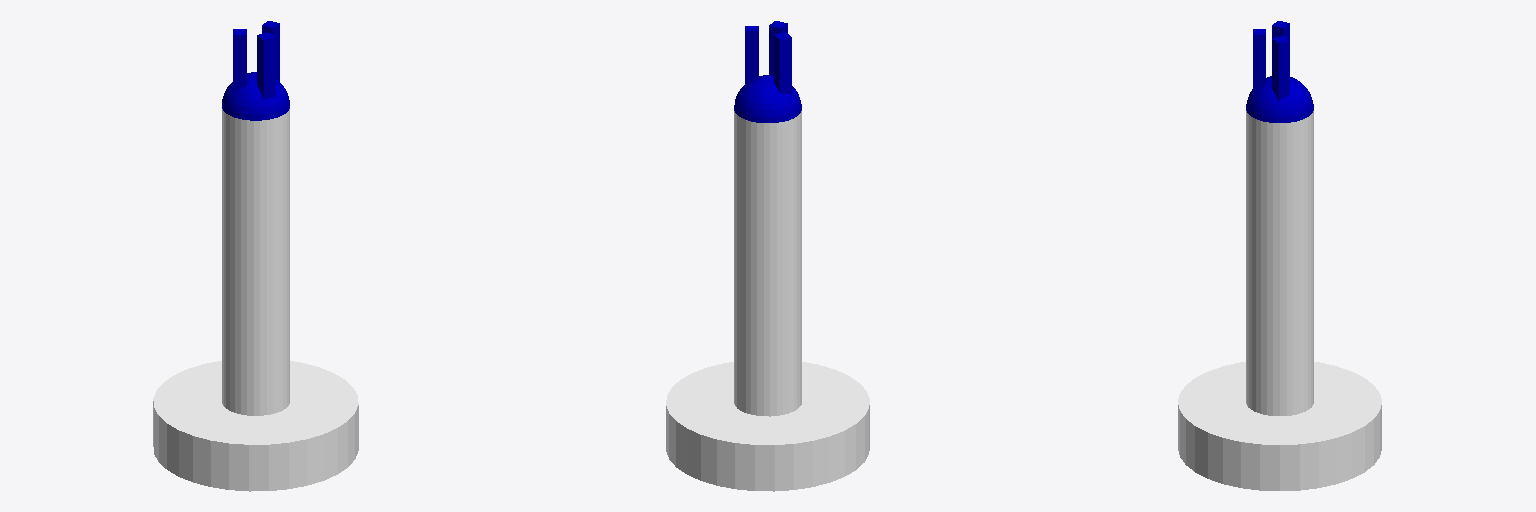
The robot description file, URDF, robot "goofybot":
<?xml version="1.0" ?>
<robot name="goofybot">

  <material name="blue">
    <color rgba="0 0 0.8 1"/>
  </material>
  
  <material name="black">
    <color rgba="0 0 0 1"/>
  </material>
  
  <material name="white">
    <color rgba="1 1 1 1"/>
  </material>

  <!-- ARM -->  

  <!--BASE FOOTPRINT -->
  <link name="base_footprint">

    <inertial>
      <mass value="5" />
        <inertia ixx="0.03047" ixy="0.0" ixz="0.0" iyy="0.03047" iyz="0.0" izz="0.05625" />
    </inertial>

    <visual>
      <origin rpy="0 0 0" xyz="0 0 0.0375"/>    
      <geometry>
        <cylinder radius="0.15" length="0.075"/>
      </geometry>
      <material name="white"/>
    </visual>

    <collision>
      <origin rpy="0 0 0" xyz="0 0 0.0375"/>
      <geometry>
        <cylinder radius="0.15" length="0.075"/>
      </geometry>
    </collision>

  </link>

  <link name="base_link">
    <inertial>
      <mass value="3" />
        <inertia ixx="0.01828" ixy="0.0" ixz="0.0" iyy="0.01828" iyz="0.0" izz="0.03375" />
    </inertial>

    <visual>
      <origin rpy="0 0 0" xyz="0 0 0.0375"/>    
      <geometry>
        <cylinder radius="0.15" length="0.075"/>
      </geometry>
      <material name="white"/>
    </visual>

    <collision>
      <origin rpy="0 0 0" xyz="0 0 0.0375"/>
      <geometry>
        <cylinder radius="0.15" length="0.075"/>
      </geometry>
    </collision>

  </link>

  <!-- FINGER LINK -->
  <link name="finger_link">
    
    <inertial>
      <mass value="2" />
        <inertia ixx="0.002" ixy="0.0" ixz="0.0" iyy="0.002" iyz="0.0" izz="0.002" />
    </inertial>

    <visual>
      <origin rpy="0 0 0" xyz="0 0 0.25"/>        
      <geometry>
        <cylinder radius="0.05" length="0.5"/>
      </geometry>
      <material name="white"/>
    </visual>  

    <collision>
      <origin rpy="0 0 0" xyz="0 0 0.25"/>
      <geometry>
        <cylinder radius="0.05" length="0.5"/>
      </geometry>
    </collision>


  </link>

  <!-- EE LINK -->
  <link name="ee_link">

    <inertial>
      <mass value="0.5" />
        <inertia ixx="0.0002" ixy="0.0" ixz="0.0" iyy="0.0002" iyz="0.0" izz="0.0002" />
    </inertial>
    
    <visual>
      <origin rpy="0 0 0" xyz="0 0 -0.25"/>
      <geometry>
        <cylinder radius="0.05" length="0.005"/>
      </geometry>
      <material name="white"/>
    </visual>  

    <collision>
      <origin rpy="0 0 0" xyz="0 0 -0.25"/>
      <geometry>
        <cylinder radius="0.05" length="0.005"/>
      </geometry>
    </collision>    

  </link>    

  <link name="gripper_base">
    <inertial>
      <mass value="0.5" />
        <inertia ixx="0.0003" ixy="0.0" ixz="0.0" iyy="0.0003" iyz="0.0" izz="0.0003" />
    </inertial>

    <visual>
      <origin rpy="0 0 0" xyz="0 0 -0.25"/>
      <geometry>
        <cylinder radius="0.05" length="0.005"/>
      </geometry>
      <material name="white"/>
    </visual>  


    <collision>
      <origin rpy="0 0 0" xyz="0 0 -0.25"/>
      <geometry>
        <cylinder radius="0.05" length="0.005"/>
      </geometry>
    </collision>

  </link>

  <link name="gripper_extension">
    <inertial>
      <mass value="1" />
        <inertia ixx="0.001" ixy="0.0" ixz="0.0" iyy="0.001" iyz="0.0" izz="0.001" />
    </inertial>


    <visual>
      <origin rpy="0 0 0" xyz="0 0 -0.25"/>
      <geometry>
        <cylinder radius="0.05" length="0.5"/>
      </geometry>
      <material name="white"/>
    </visual>  

    <collision>
      <origin rpy="0 0 0" xyz="0 0 -0.25"/>
      <geometry>
        <cylinder radius="0.05" length="0.5"/>
      </geometry>
    </collision>

  </link>  

  <joint name="base_joint" type="continuous">
    <parent link="base_footprint"/>
    <child link="base_link"/>
    <axis xyz="0 0 1"/>
  </joint>

  <joint name="finger_joint" type="revolute">
    <parent link="base_link"/>
    <child link="finger_link"/>
    <origin xyz="0 0 0.05" rpy="0 0 0"/>
    <axis xyz="0 1 0"/>
    <limit lower="-1.45" upper="1.45" effort="100" velocity="1.0"/>
  </joint>

  <joint name="ee_joint" type="revolute">
    <parent link="finger_link"/>
    <child link="ee_link"/>
    <origin xyz="0 0 0.5" rpy="0 0 0"/>
    <axis xyz="0 0 1"/>
    <limit lower="-1.57" upper="1.57" effort="100" velocity="1.0"/>
  </joint>
  
  <link name="gripper_tip_ee_right">

    <inertial>
      <mass value="0.1" />
      <inertia ixx="9e-05" ixy="0.0" ixz="0.0" iyy="9e-05" iyz="0.0" izz="1e-05" />
    </inertial>

    <visual>
      <origin rpy="0 0 0" xyz="0 0 0.075"/>
      <geometry>
        <box size="0.02 0.02 0.1"/>
      </geometry>
      <material name="blue"/>
    </visual>


    <collision>
      <origin rpy="0 0 0" xyz="0 0 0.075"/>
      <geometry>
        <box size="0.02 0.02 0.1"/>
      </geometry>
    </collision>

  </link>

  <link name="gripper_tip_base">
    
    <inertial>
      <mass value="0.3" />
        <inertia ixx="0.0003" ixy="0.0" ixz="0.0" iyy="0.0003" iyz="0.0" izz="0.0003" />
    </inertial>

    <visual>
      <origin rpy="0 0 0" xyz="0 0 0"/>
      <geometry>
        <sphere radius="0.05"/>
      </geometry>
      <material name="blue"/>
    </visual>

    <collision>
      <origin rpy="0 0 0" xyz="0 0 0"/>
      <geometry>
        <sphere radius="0.05"/>
      </geometry>
    </collision>
    
  </link>

  <link name="gripper_tip_ee_center">
    
    <inertial>
      <mass value="0.1" />
      <inertia ixx="9e-05" ixy="0.0" ixz="0.0" iyy="9e-05" iyz="0.0" izz="1e-05" />
    </inertial>
    
    <visual>
      <origin rpy="0 0 0" xyz="0 0 0.075"/>
      <geometry>
        <box size="0.02 0.02 0.1"/>
      </geometry>
      <material name="blue"/>
    </visual>      

    <collision>
      <origin rpy="0 0 0" xyz="0 0 0.075"/>
      <geometry>
        <box size="0.02 0.02 0.1"/>
      </geometry>
    </collision>

  </link>   

  <link name="gripper_tip_ee_left">

    <inertial>
      <mass value="0.1" />
      <inertia ixx="9e-05" ixy="0.0" ixz="0.0" iyy="9e-05" iyz="0.0" izz="1e-05" />
    </inertial>

    <visual>
      <origin rpy="0 0 0" xyz="0 0 0.075"/>
      <geometry>
        <box size="0.02 0.02 0.1"/>
      </geometry>
      <material name="blue"/>
    </visual>  

    <collision>
      <origin rpy="0 0 0" xyz="0 0 0.075"/>
      <geometry>
        <box size="0.02 0.02 0.1"/>
      </geometry>
    </collision>


  </link>   

  <!-- END ARM -->

  <!-- GRIPPER -->

  <joint name="gripper_joint" type="fixed">
    <parent link="ee_link"/>
    <child link="gripper_base"/>
  </joint>

  <joint name="gripper_extension_joint" type="prismatic">
    <parent link="gripper_base"/>
    <child link="gripper_extension"/>
    <axis xyz="0 0 1"/>    
    <limit effort="1000.0" upper="0.5" lower="0" velocity="0.5"/>
  </joint>

  <joint name="gripper_tip_base_joint" type="fixed">
    <parent link="gripper_extension"/>
    <child link="gripper_tip_base"/>
    <origin rpy="0 0 0" xyz="0 0 0.0"/>    
  </joint>

<joint name="gripper_tip_ee_right_joint" type="revolute">
  <parent link="gripper_tip_base"/>
  <child link="gripper_tip_ee_right"/>
  <origin xyz="0.025981 0.0015 0" rpy="0 0 2.09436"/>
  <axis xyz="1 0 0"/>
  <limit lower="-0.7853" upper="0.7853" effort="100" velocity="1.0"/>
</joint>

<joint name="gripper_tip_ee_center_joint" type="revolute">
  <mimic joint="gripper_tip_ee_right_joint" multiplier="1" offset="0"/>    
  <parent link="gripper_tip_base"/>
  <child link="gripper_tip_ee_center"/>
  <origin xyz="0 -0.03 0" rpy="0 0 0"/>
  <axis xyz="1 0 0"/>
  <limit lower="-0.7853" upper="0.7853" effort="100" velocity="1.0"/>
</joint>

<joint name="gripper_tip_ee_left_joint" type="revolute">
  <mimic joint="gripper_tip_ee_right_joint" multiplier="1" offset="0"/>      
  <parent link="gripper_tip_base"/>
  <child link="gripper_tip_ee_left"/>
  <origin xyz="-0.025981 0.0015 0" rpy="0 0 -2.09436"/>
  <axis xyz="1 0 0"/>
  <limit lower="-0.7853" upper="0.7853" effort="100" velocity="1.0"/>
</joint>


  <ros2_control name="GazeboSystem" type="system">

    <hardware>
      <plugin>gazebo_ros2_control/GazeboSystem</plugin>
    </hardware>


    <joint name="base_joint">
      <command_interface name="position">
        <param name="min">-5</param>
        <param name="max">5</param>
      </command_interface>
      <state_interface name="position">
        <param name="initial_value">0.0</param>
      </state_interface>
      <state_interface name="velocity">
        <param name="initial_value">0.0</param>
      </state_interface>
    </joint>

        <joint name="finger_joint">
      <command_interface name="position">
        <param name="min">-5</param>
        <param name="max">5</param>
      </command_interface>
      <state_interface name="position">
        <param name="initial_value">0.0</param>
      </state_interface>
      <state_interface name="velocity">
        <param name="initial_value">0.0</param>
      </state_interface>
    </joint>

        <joint name="ee_joint">
      <command_interface name="position">
        <param name="min">-5</param>
        <param name="max">5</param>
      </command_interface>
      <state_interface name="position">
        <param name="initial_value">0.0</param>
      </state_interface>
      <state_interface name="velocity">
        <param name="initial_value">0.0</param>
      </state_interface>
    </joint>

        <joint name="gripper_extension_joint">
      <command_interface name="position">
        <param name="min">-5</param>
        <param name="max">5</param>
      </command_interface>
      <state_interface name="position">
        <param name="initial_value">0.0</param>
      </state_interface>
      <state_interface name="velocity">
        <param name="initial_value">0.0</param>
      </state_interface>
    </joint>

        <joint name="gripper_tip_ee_right_joint">
      <command_interface name="position">
        <param name="min">-0.7853</param>
        <param name="max">0.7853</param>
      </command_interface>
      <state_interface name="position">
        <param name="initial_value">0.0</param>
      </state_interface>
      <state_interface name="velocity">
        <param name="initial_value">0.0</param>
      </state_interface>
    </joint>


        <joint name="gripper_tip_ee_left_joint">
      <command_interface name="position">
        <param name="min">-0.7853</param>
        <param name="max">0.7853</param>
      </command_interface>
      <state_interface name="position">
        <param name="initial_value">0.0</param>
      </state_interface>
      <state_interface name="velocity">
        <param name="initial_value">0.0</param>
      </state_interface>
    </joint>    

        <joint name="gripper_tip_ee_center_joint">
      <command_interface name="position">
        <param name="min">-0.7853</param>
        <param name="max">0.7853</param>
      </command_interface>
      <state_interface name="position">
        <param name="initial_value">0.0</param>
      </state_interface>
      <state_interface name="velocity">
        <param name="initial_value">0.0</param>
      </state_interface>
    </joint>

  </ros2_control>

  <gazebo>
    <plugin filename="libgazebo_ros2_control.so" name="gazebo_ros2_control">
      <parameters>/home/icrs/icrsUR/src/robotics_software_engineer-assignments/src/module_5_assignment/config/robotic_arm_controllers.yaml</parameters>
    </plugin>
  </gazebo>

</robot>

--- Facts derived from the render (not from the file) ---
The picture shows the robot from 3 angles, left to right: view 1: azimuth 30°, elevation 25°; view 2: azimuth 150°, elevation 25°; view 3: azimuth 270°, elevation 25°; orthographic projection.
Robot: goofybot — 10 links, 9 joints (5 revolute, 1 continuous, 1 prismatic, 2 fixed); root link base_footprint; default pose: every joint at zero.
Links seen in each view (by area): view 1: finger_link, base_footprint, gripper_tip_base, gripper_tip_ee_center, gripper_tip_ee_left; view 2: finger_link, base_footprint, gripper_tip_base, gripper_tip_ee_left, gripper_tip_ee_right; view 3: finger_link, base_footprint, gripper_tip_base, gripper_tip_ee_right, gripper_tip_ee_center.
Boxes of the visible links, <box> form: finger_link: <box>222,109,289,415</box>; base_footprint: <box>153,361,358,491</box>; gripper_tip_base: <box>222,72,289,120</box>; gripper_tip_ee_center: <box>257,32,275,99</box>; gripper_tip_ee_left: <box>233,29,246,93</box>; finger_link: <box>734,111,801,416</box>; base_footprint: <box>666,362,869,491</box>; gripper_tip_base: <box>734,75,801,122</box>; gripper_tip_ee_left: <box>774,32,791,94</box>; gripper_tip_ee_right: <box>745,26,758,85</box>; finger_link: <box>1246,111,1313,415</box>; base_footprint: <box>1178,362,1381,490</box>; gripper_tip_base: <box>1246,76,1313,122</box>; gripper_tip_ee_right: <box>1272,35,1289,101</box>; gripper_tip_ee_center: <box>1253,29,1265,93</box>.
Bounding box of the posed robot: 0.3 × 0.3 × 0.675 m (x, y, z).
Geometry: primitives only (box / cylinder / sphere), no mesh files.
